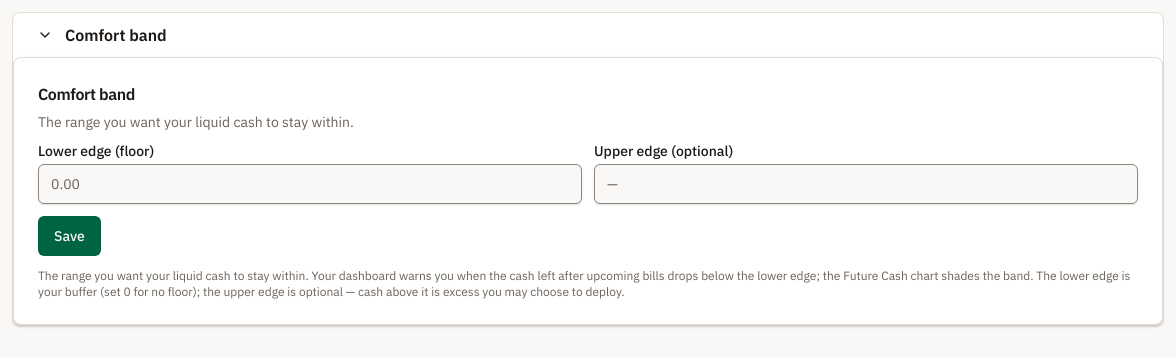
Scenario: Comfort band, resolved while collapsed › an open section keeps today's target: the Save in the body
Type "500" into the field labelled "Lower edge (floor)" at [310, 184], box [38, 164, 582, 204]
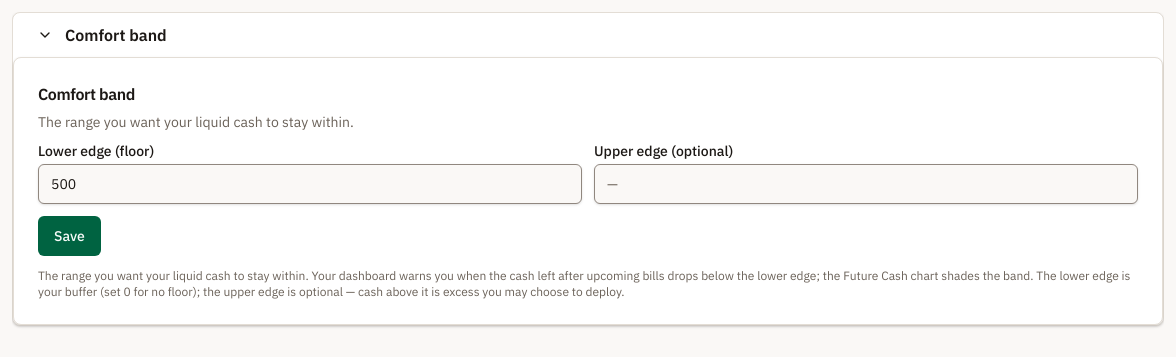
Type "900" into the field labelled "Upper edge (optional)" at [866, 184], box [594, 164, 1138, 204]
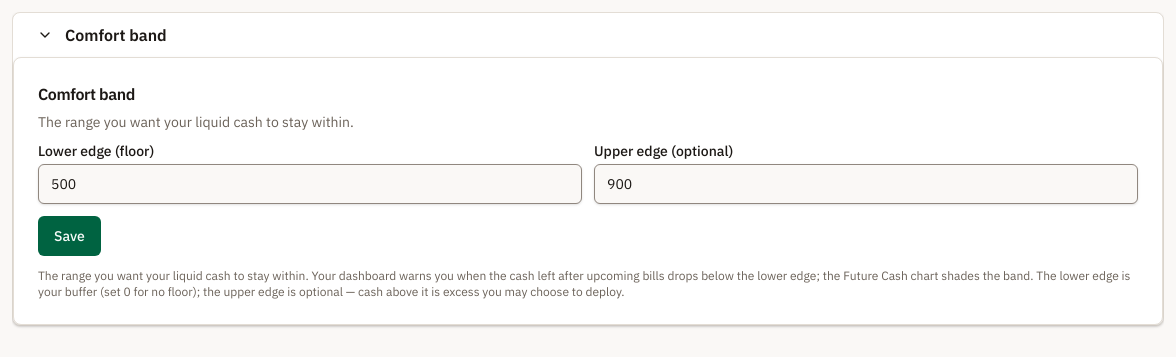
Click the button "Save" at [69, 236], box [38, 216, 101, 256]
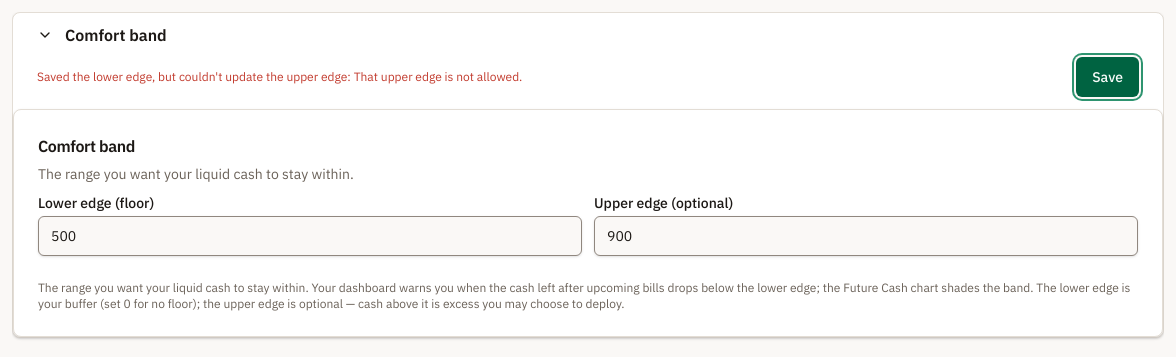
expect the message is shown: met, box [37, 69, 522, 85]
Click the button "Save" at [1108, 77], box [1076, 57, 1139, 97]
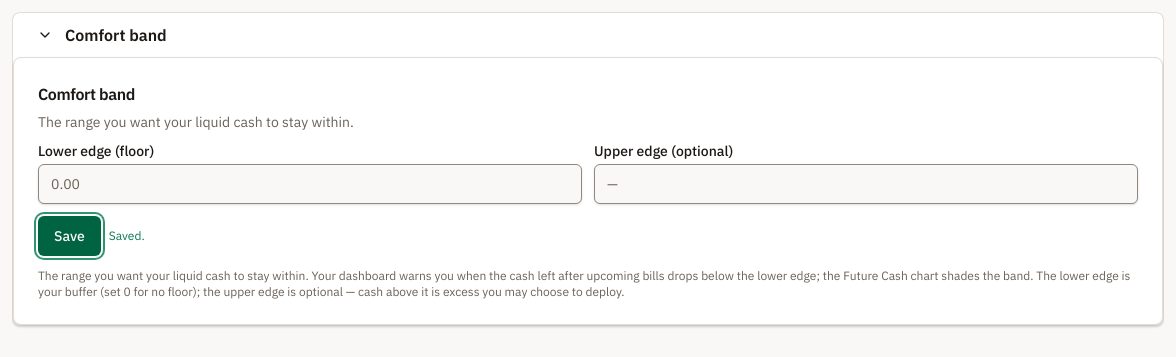
expect the message is gone: met
